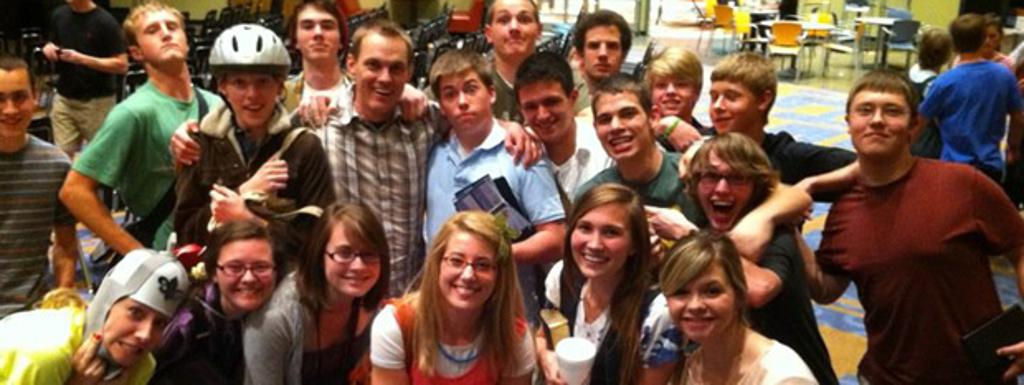face: (103, 288, 172, 369), (667, 268, 735, 343), (438, 230, 498, 312), (324, 220, 383, 299), (570, 202, 630, 279), (697, 154, 755, 233), (217, 240, 277, 313), (355, 36, 408, 116), (849, 89, 910, 158), (595, 93, 650, 161), (225, 66, 280, 130), (440, 70, 491, 137), (519, 80, 572, 144), (709, 78, 759, 136), (137, 12, 189, 64), (491, 1, 536, 57), (297, 9, 342, 64), (1, 70, 33, 138), (652, 69, 695, 118), (584, 27, 622, 80), (978, 26, 1000, 54)
